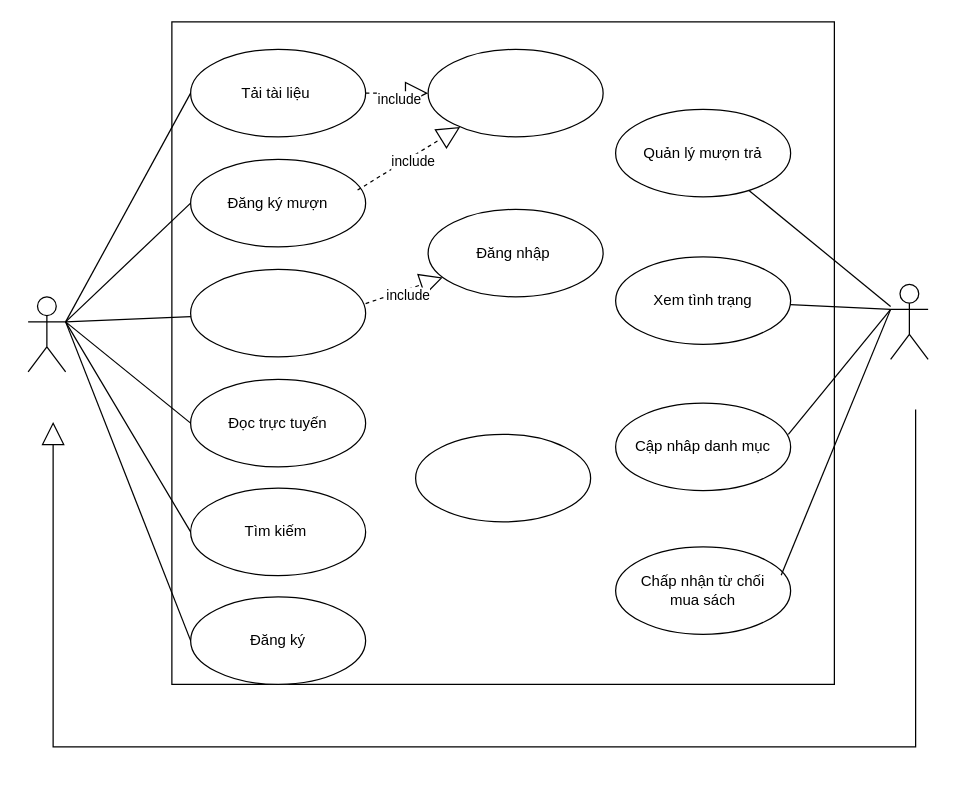
The diagram is 960 pixels wide and 791 high, and some of its shapes have lost their labels. The centre of each missing label's shape, as x and y in pixels:
"Email nhắc quá hạn" goes at pixel 502 477.
"Nhập mã thẻ" goes at pixel 515 92.
"Thủ thư" goes at pixel 908 321.
"Đăng ký mua" goes at pixel 277 312.
"Độc giả" goes at pixel 46 334.
